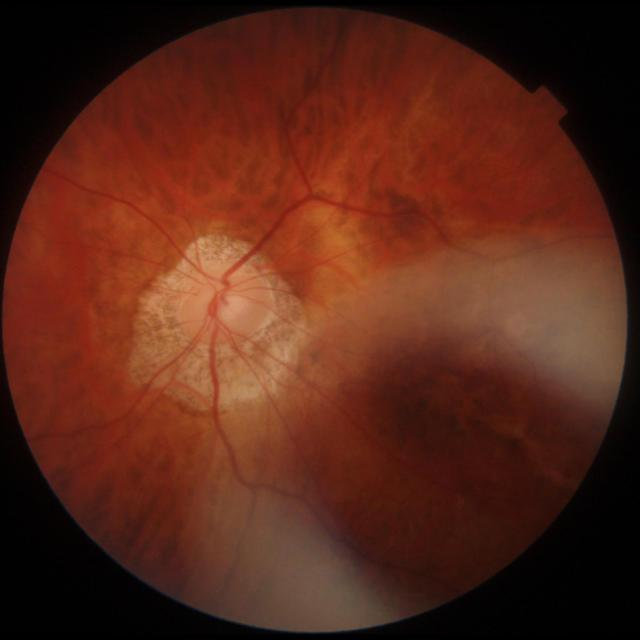OC: (219, 294, 246, 320)
OD: (180, 278, 269, 343)
